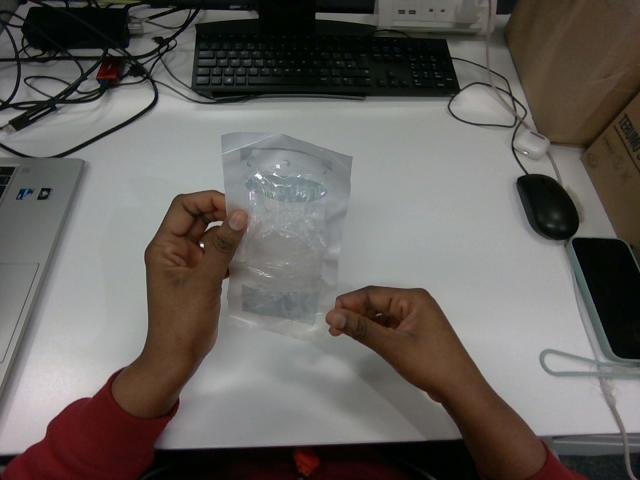gallipot: (222, 133, 351, 339)
